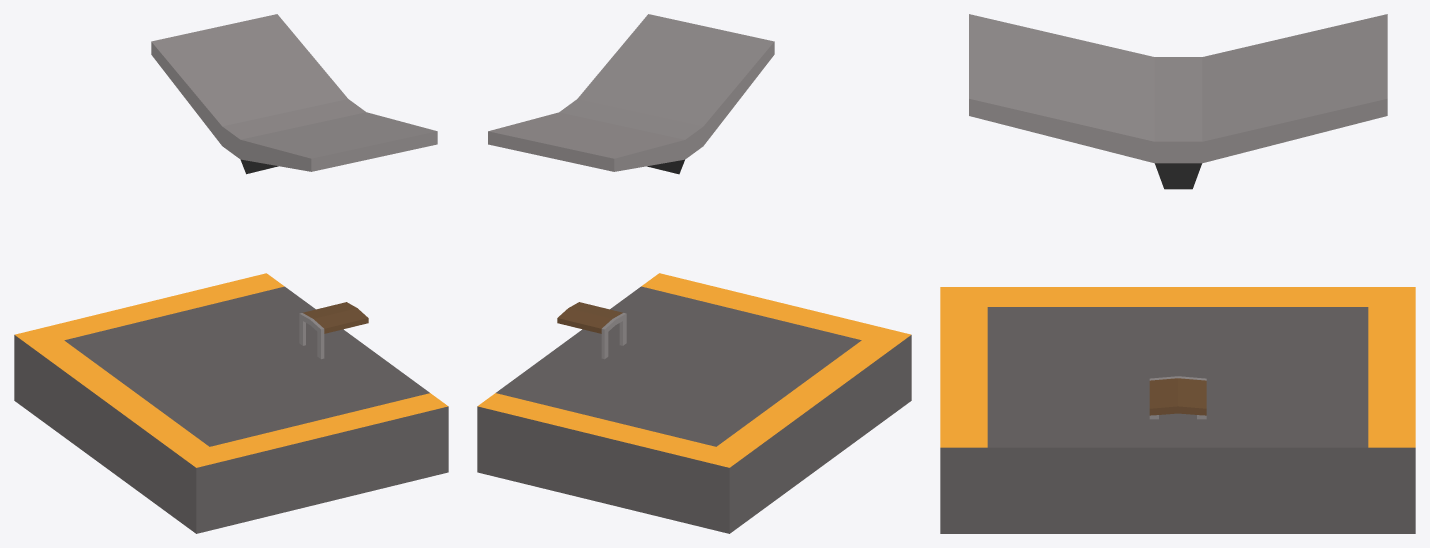
File: train-station-platform-small-end.glb
3 renders of one model, left to right at view 1: azimuth 30°, elevation 25°; view 2: azimuth 150°, elevation 25°; view 3: azimuth 270°, elevation 25°, orthographic. The views are drawn at different scales.
Parts seen in each view (by area): view 1: train-station-platform-small-end; view 2: train-station-platform-small-end; view 3: train-station-platform-small-end.
Boxes of the visible parts, x1,y1,x2,y2 form: train-station-platform-small-end: (14,14,448,533); train-station-platform-small-end: (477,14,911,533); train-station-platform-small-end: (940,14,1415,533).
Bounding box in the file's own units: 4 × 5.1 × 5.
1 material, 1 textured.
